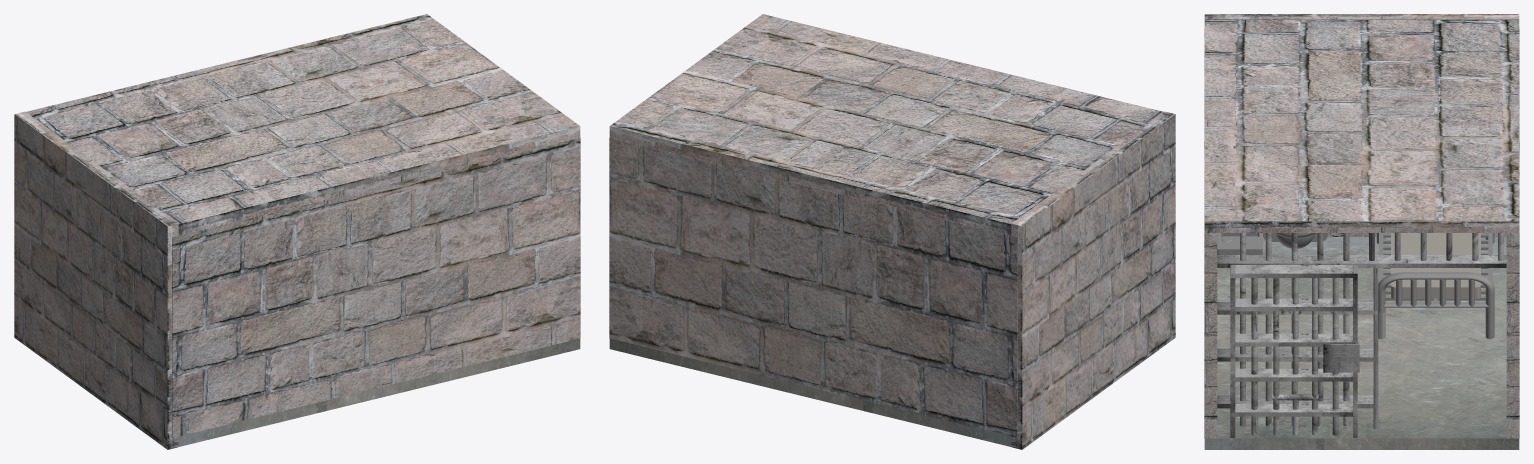
Rendered from cell open.fbx.
The picture shows the model from 3 angles, left to right: view 1: azimuth 30°, elevation 25°; view 2: azimuth 150°, elevation 25°; view 3: azimuth 270°, elevation 25°; orthographic projection. The views are drawn at different scales.
Parts seen in each view (by area): view 1: polySurface128, polySurface117, polySurface108, polySurface127; view 2: polySurface107, polySurface117, polySurface108, polySurface127; view 3: polySurface117, polySurface127, polySurface173, pasted__pasted__pasted__pasted__pasted__pasted__pasted__past (×5), polySurface107, polySurface128, polySurface99, polySurface108, pasted__pasted__pasted__pasted__pCube14, pasted__pasted__pasted__pCube16, pasted__pasted__pasted__pCube17, pasted__pasted__pasted__pasted__pasted__pCube14 (+14 smaller).
Part boxes in pixels (box(x1,y1,x2,y2)): polySurface128: box(172, 137, 580, 437); polySurface117: box(26, 14, 580, 235); polySurface108: box(14, 111, 178, 449); polySurface127: box(172, 338, 580, 446); polySurface107: box(609, 137, 1017, 437); polySurface117: box(609, 14, 1163, 236); polySurface108: box(1011, 111, 1175, 449); polySurface127: box(609, 338, 1017, 446); polySurface117: box(1204, 20, 1519, 232); polySurface127: box(1204, 237, 1519, 449); polySurface173: box(1376, 233, 1494, 338); pasted__pasted__pasted__pasted__pasted__pasted__pasted__past (×5): box(1251, 278, 1338, 435); polySurface107: box(1506, 28, 1519, 438); polySurface128: box(1204, 28, 1217, 438); polySurface99: box(1217, 255, 1506, 267); polySurface108: box(1204, 14, 1519, 236); pasted__pasted__pasted__pasted__pCube14: box(1230, 265, 1357, 277); pasted__pasted__pasted__pCube16: box(1231, 298, 1354, 311); pasted__pasted__pasted__pCube17: box(1231, 333, 1354, 346); pasted__pasted__pasted__pasted__pasted__pCube14: box(1231, 404, 1355, 416).
Bounding box in the file's own units: 37.95 × 19.62 × 24.43.
